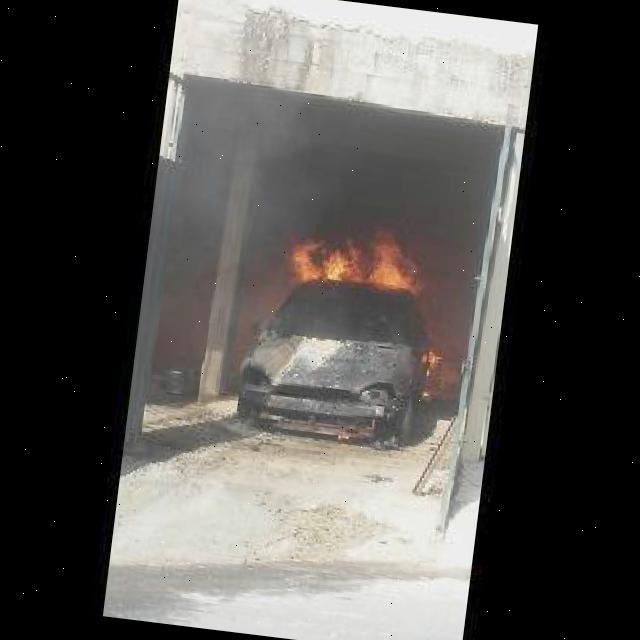fire: (284, 214, 428, 296), (420, 345, 450, 376)
